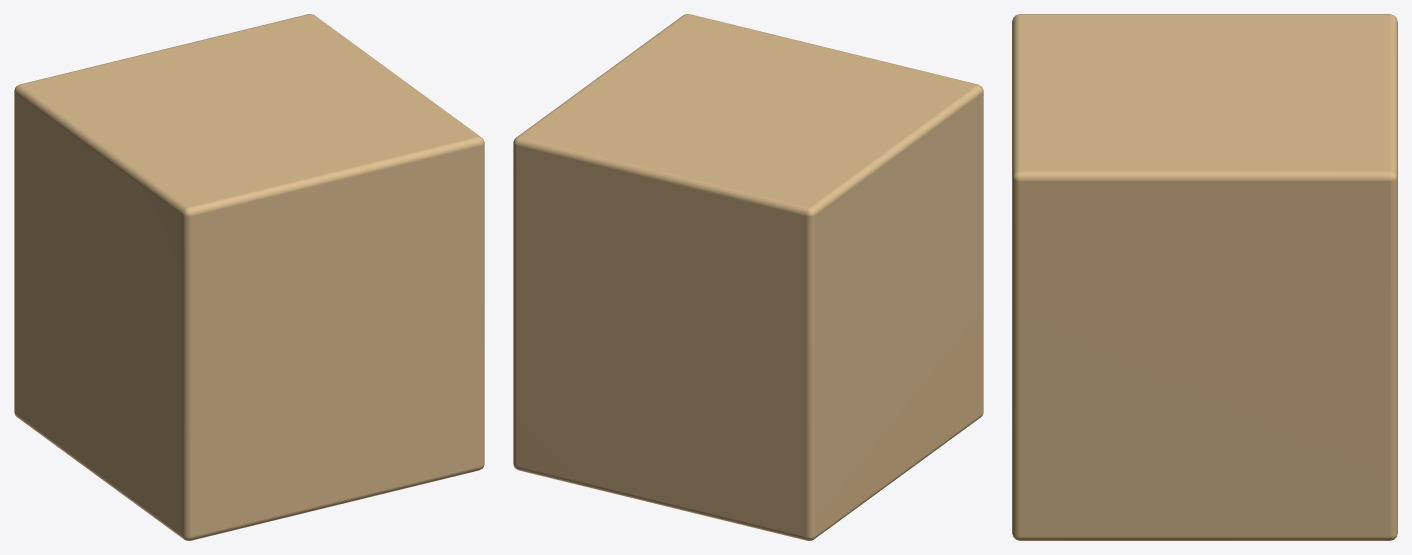
Rendered from rook.glb.
The picture shows the model from 3 angles, left to right: view 1: azimuth 30°, elevation 25°; view 2: azimuth 150°, elevation 25°; view 3: azimuth 270°, elevation 25°; orthographic projection. The views are drawn at different scales.
Visible parts, largest first — view 1: Bauhaus-inspired rook.001; view 2: Bauhaus-inspired rook.001; view 3: Bauhaus-inspired rook.001.
Part boxes in pixels (x1,y1,x2,y2): Bauhaus-inspired rook.001: (14, 14, 484, 540); Bauhaus-inspired rook.001: (513, 14, 983, 540); Bauhaus-inspired rook.001: (1012, 14, 1397, 540).
Bounding box in the file's own units: 0.036 × 0.038 × 0.036.
